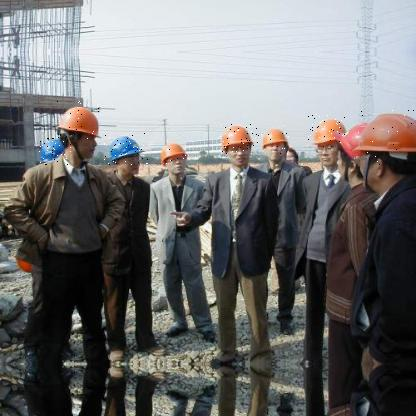safetyhelmet: (357, 108, 415, 167), (54, 101, 109, 140), (104, 133, 149, 166), (308, 114, 347, 148), (217, 123, 258, 155), (256, 121, 290, 156), (36, 134, 72, 167), (158, 139, 190, 167)
